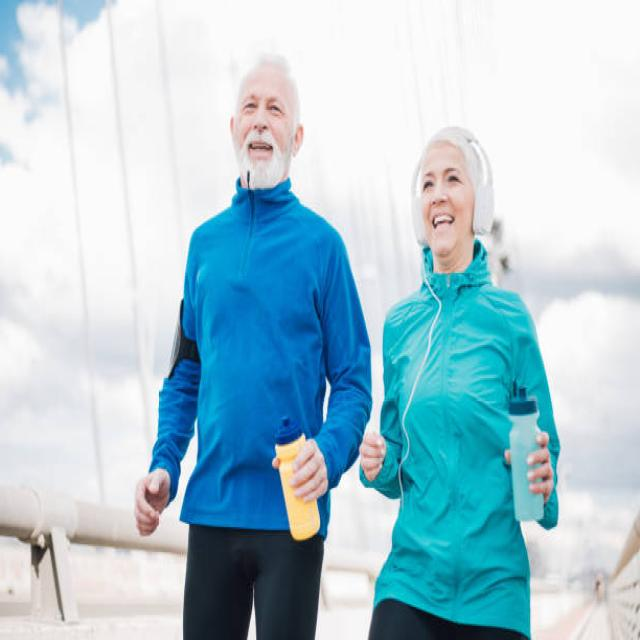blue_bottle: (508, 389, 543, 524)
